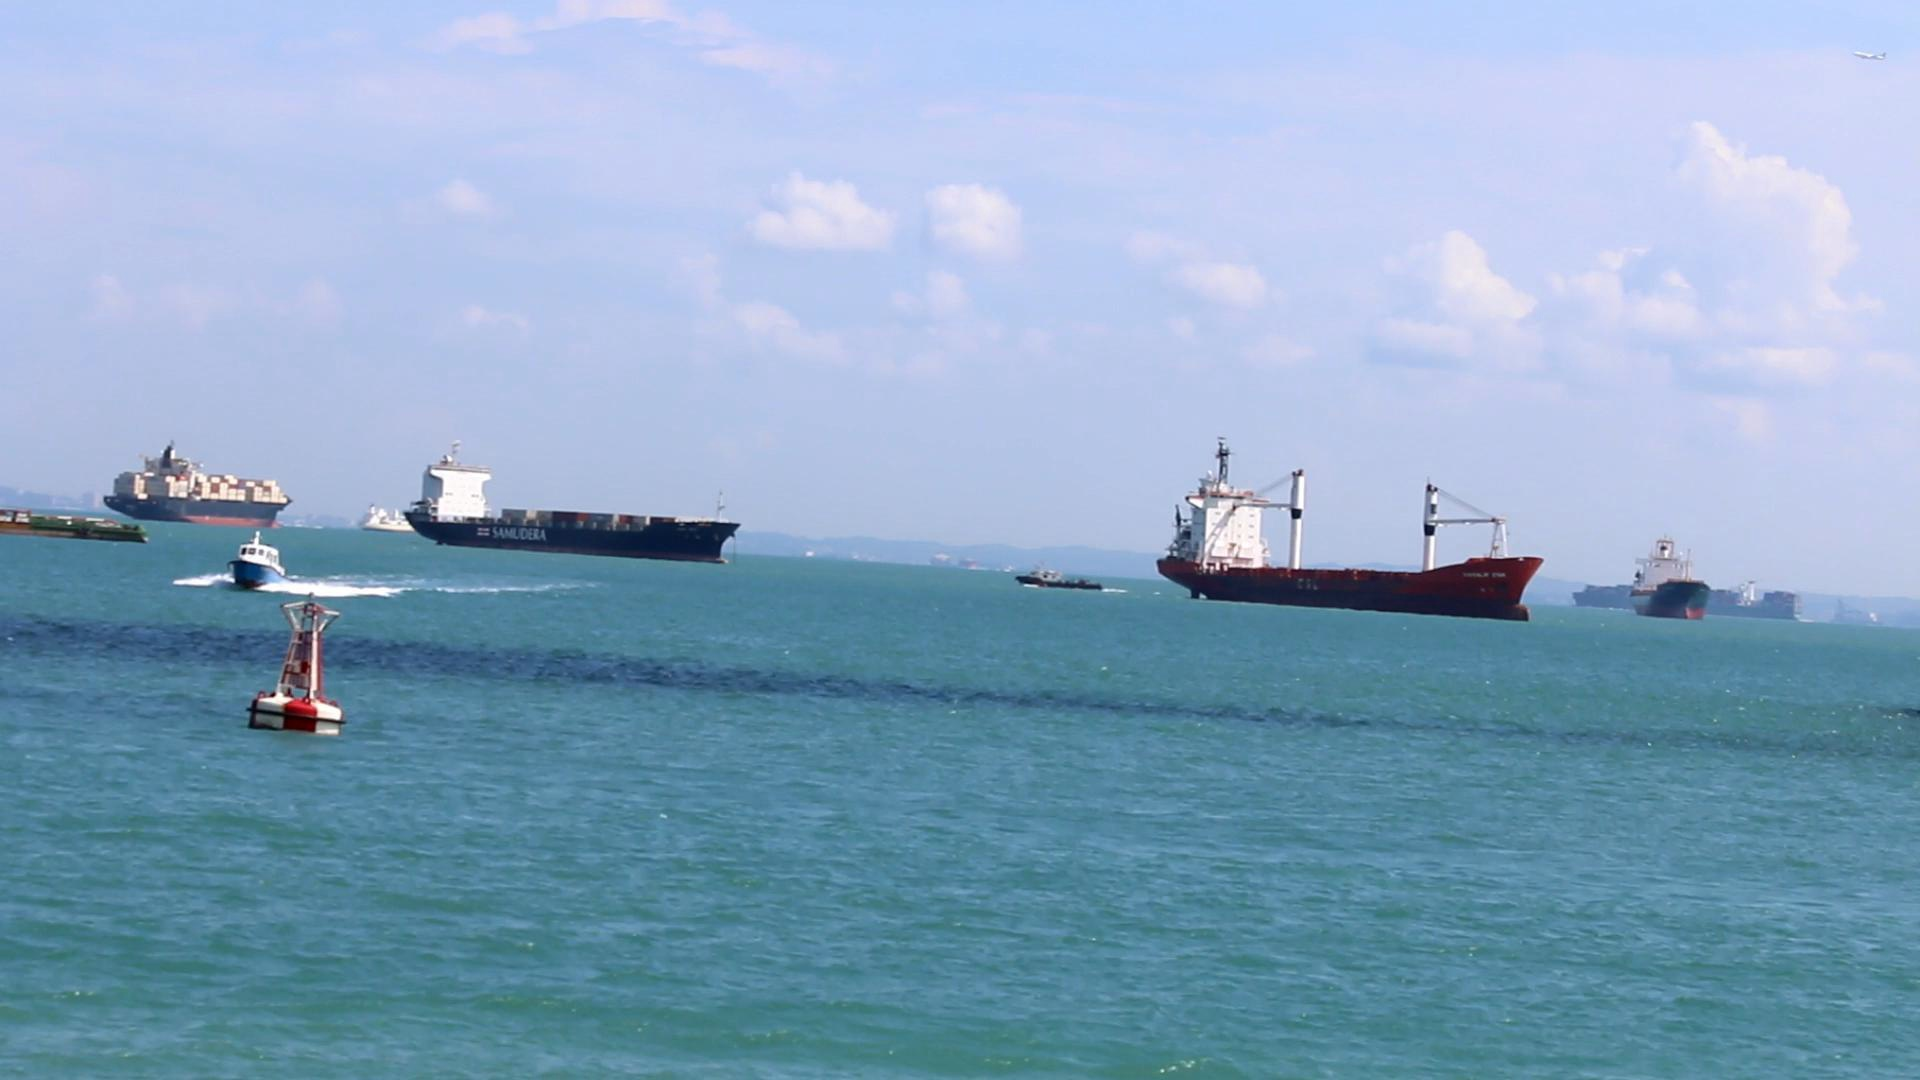Container Ship: (1155, 433, 1545, 622), (402, 440, 744, 566), (102, 438, 295, 531), (1573, 578, 1801, 622), (1631, 538, 1713, 622), (0, 509, 148, 546), (357, 504, 414, 533)
